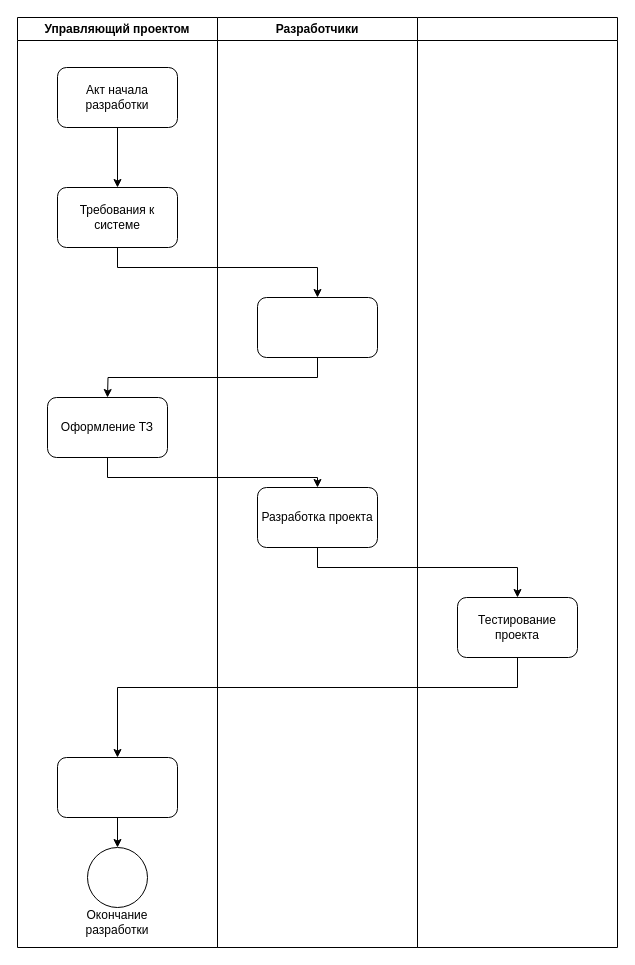
The diagram is 635 pixels wide and 965 high, and some of its shapes have lost their labels. The shapes that lost their labels are listed below. From the top down, each one's box as (x1, y1, x2, y2) in pixels, then its label:
(256, 296, 378, 358): Проверка реализуемости требований
(416, 16, 618, 948): Тестировщик
(56, 756, 178, 818): Составление акта об окончании разработки
